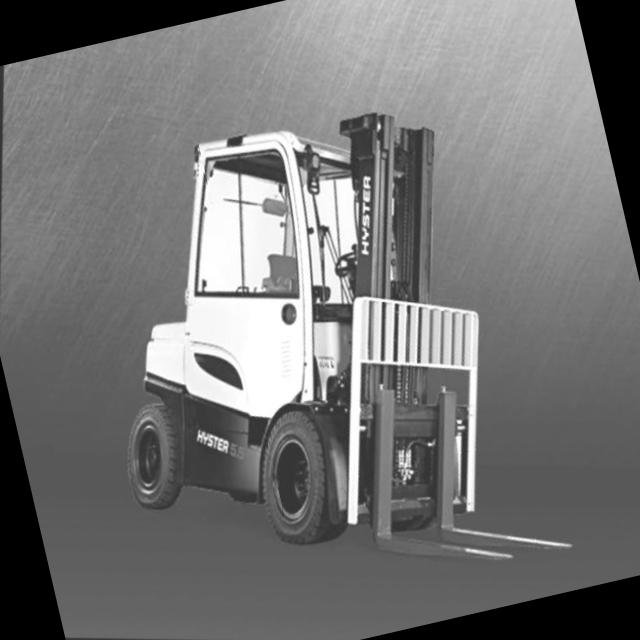forklift: (21, 19, 588, 634)
